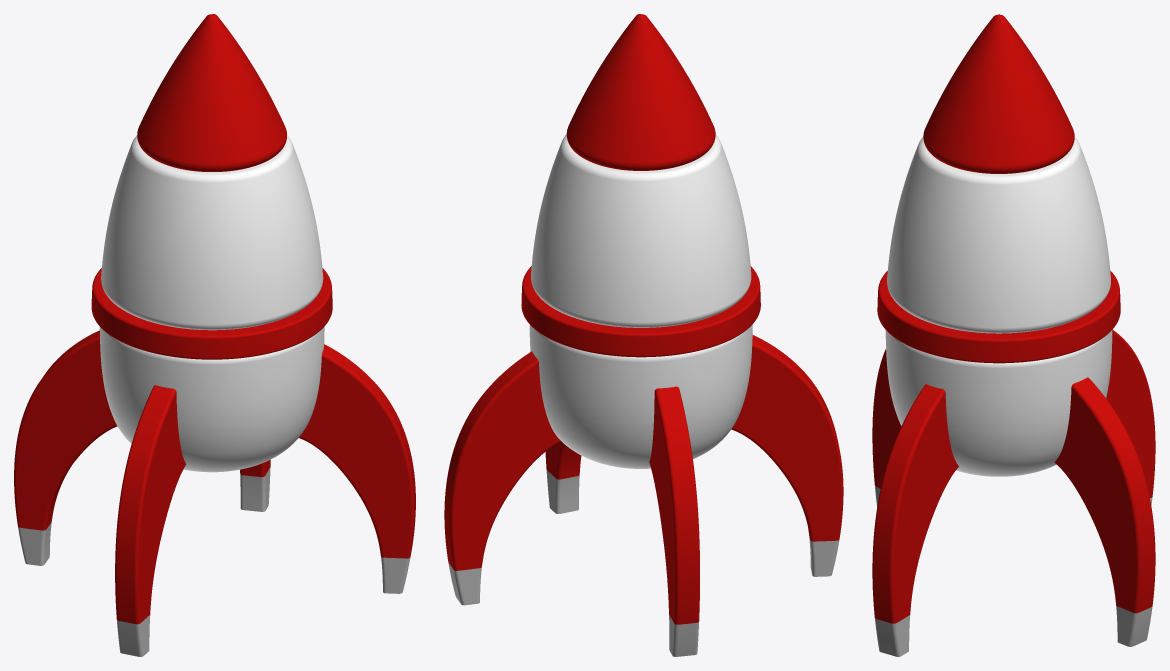
The model's file is stage3.glb.
3 renders of one model, left to right at view 1: azimuth 30°, elevation 25°; view 2: azimuth 150°, elevation 25°; view 3: azimuth 270°, elevation 25°, orthographic.
Bounding box in the file's own units: 0.1976 × 0.3573 × 0.1601.
